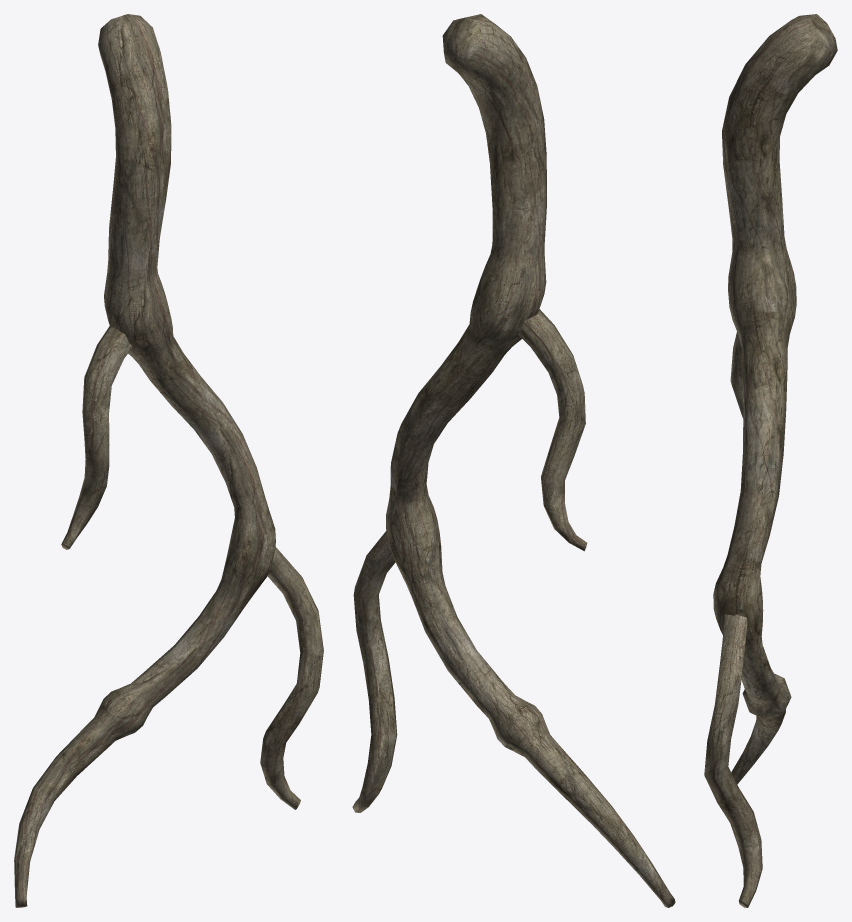
The model's file is roots_caves_01.dae.
The picture shows the model from 3 angles, left to right: view 1: azimuth 30°, elevation 25°; view 2: azimuth 150°, elevation 25°; view 3: azimuth 270°, elevation 25°; orthographic projection. The views are drawn at different scales.
Parts seen in each view (by area): view 1: 01; view 2: 01; view 3: 01.
Boxes of the visible parts, box(x1,y1,x2,y2) form: 01: box(14, 14, 323, 907); 01: box(352, 14, 675, 907); 01: box(704, 14, 837, 907).
Bounding box in the file's own units: 0.8174 × 2.14 × 0.305.
